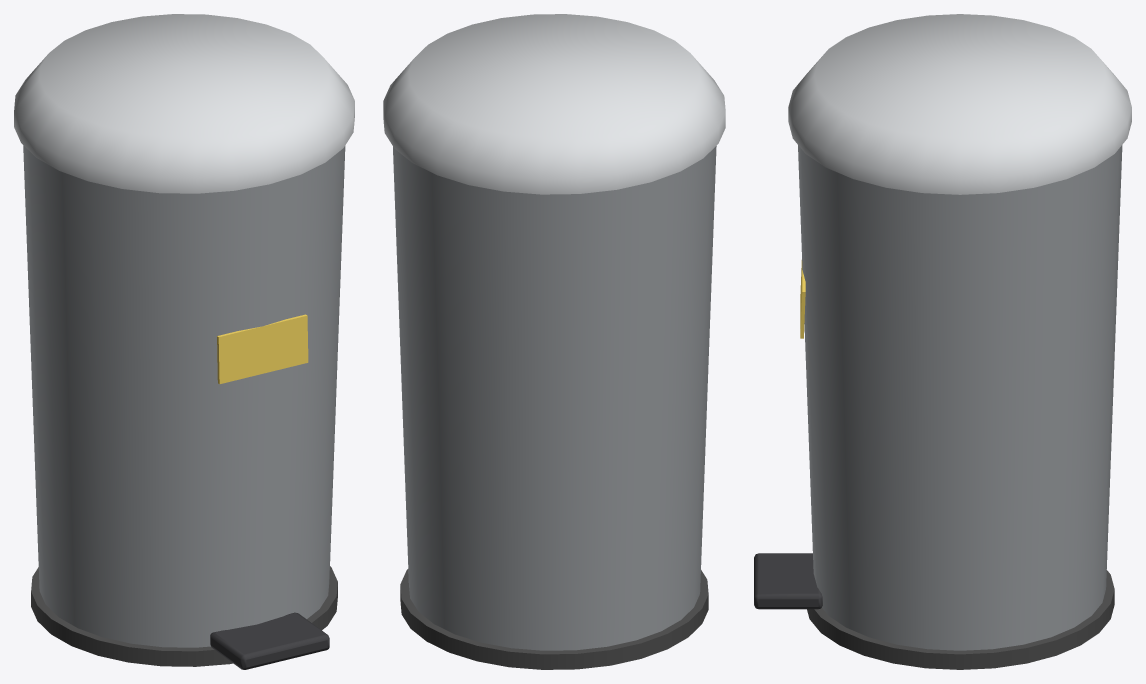
The model's file is TrashBin.fbx.
The picture shows the model from 3 angles, left to right: view 1: azimuth 30°, elevation 25°; view 2: azimuth 150°, elevation 25°; view 3: azimuth 270°, elevation 25°; orthographic projection.
Visible parts, largest first — view 1: TrashBin; view 2: TrashBin; view 3: TrashBin.
Part boxes in pixels (bbox=[...]): TrashBin: bbox=[14, 14, 354, 669]; TrashBin: bbox=[383, 14, 725, 669]; TrashBin: bbox=[754, 14, 1131, 669].
Size of the model in its own units: 0.4 by 0.69 by 0.44.
